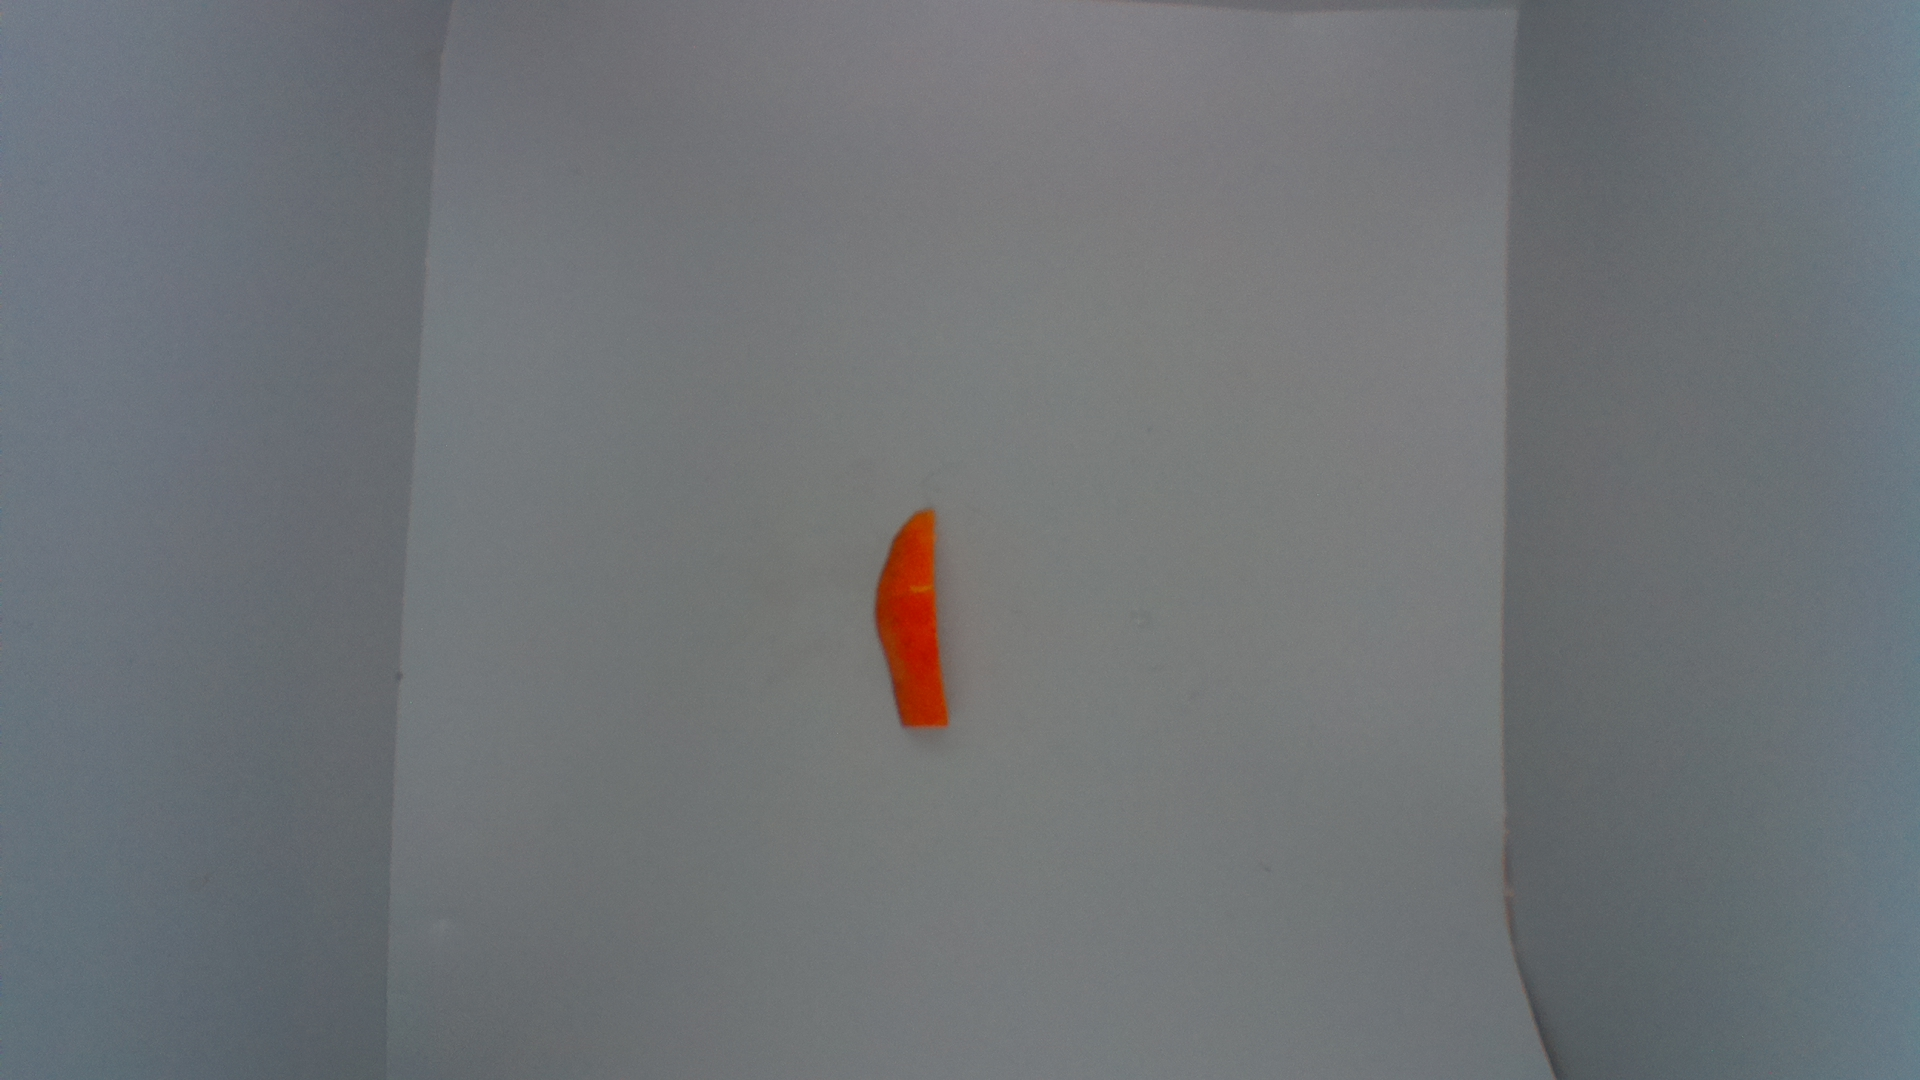carrot: (876, 505, 960, 732)
